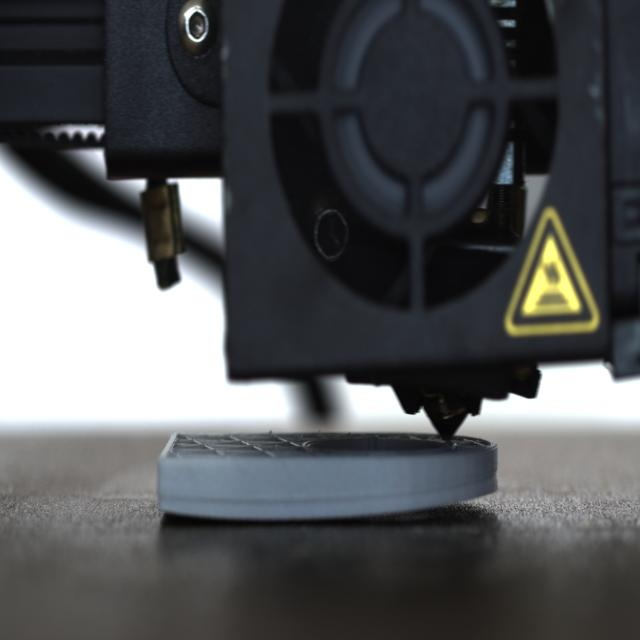Warping: (314, 453, 517, 545)
